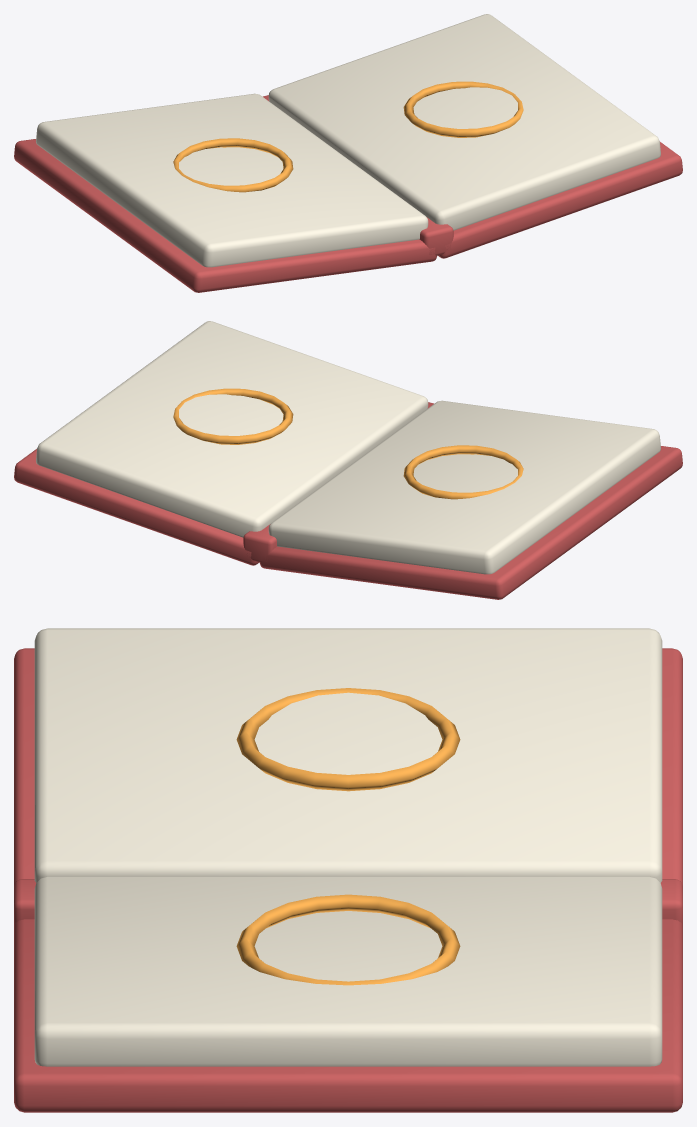
The model's file is Spellbook.fbx.
3 views of the same model, one above another, from view 1: azimuth 30°, elevation 25°; view 2: azimuth 150°, elevation 25°; view 3: azimuth 270°, elevation 25° (orthographic). The views are drawn at different scales.
Parts seen in each view (by area): view 1: Spellbook_Pages, Spellbook_Cover, Spellbook_Rune; view 2: Spellbook_Pages, Spellbook_Cover, Spellbook_Rune; view 3: Spellbook_Pages, Spellbook_Cover, Spellbook_Rune.
Boxes of the visible parts, left/top/right/bottom form: Spellbook_Pages: left=36, top=14, right=660, bottom=267; Spellbook_Cover: left=14, top=95, right=682, bottom=292; Spellbook_Rune: left=173, top=81, right=523, bottom=192; Spellbook_Pages: left=36, top=321, right=660, bottom=574; Spellbook_Cover: left=14, top=402, right=682, bottom=599; Spellbook_Rune: left=173, top=388, right=523, bottom=499; Spellbook_Pages: left=34, top=628, right=662, bottom=1066; Spellbook_Cover: left=14, top=648, right=682, bottom=1112; Spellbook_Rune: left=236, top=688, right=460, bottom=985.
Bounding box in the file's own units: 400 × 51.03 × 260.
